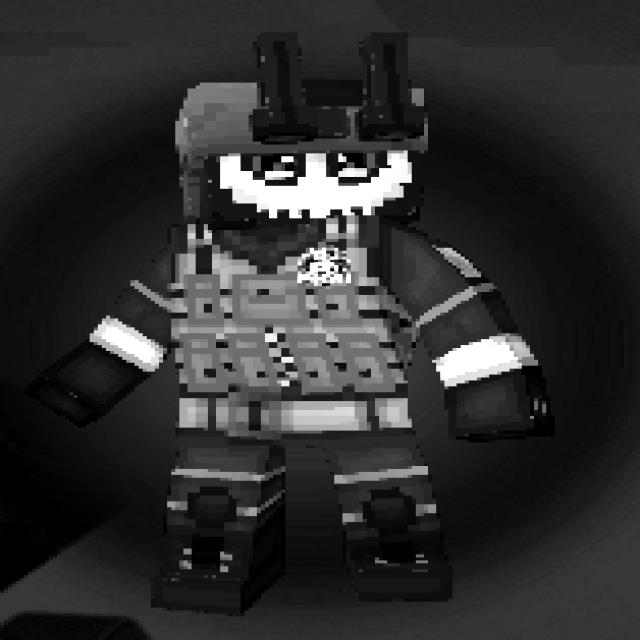Head: (164, 34, 434, 225)
Player: (27, 33, 555, 614)
